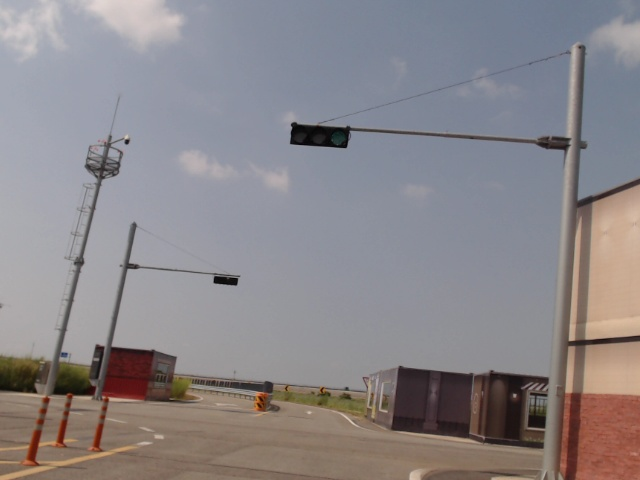green_3: (290, 125, 349, 148)
